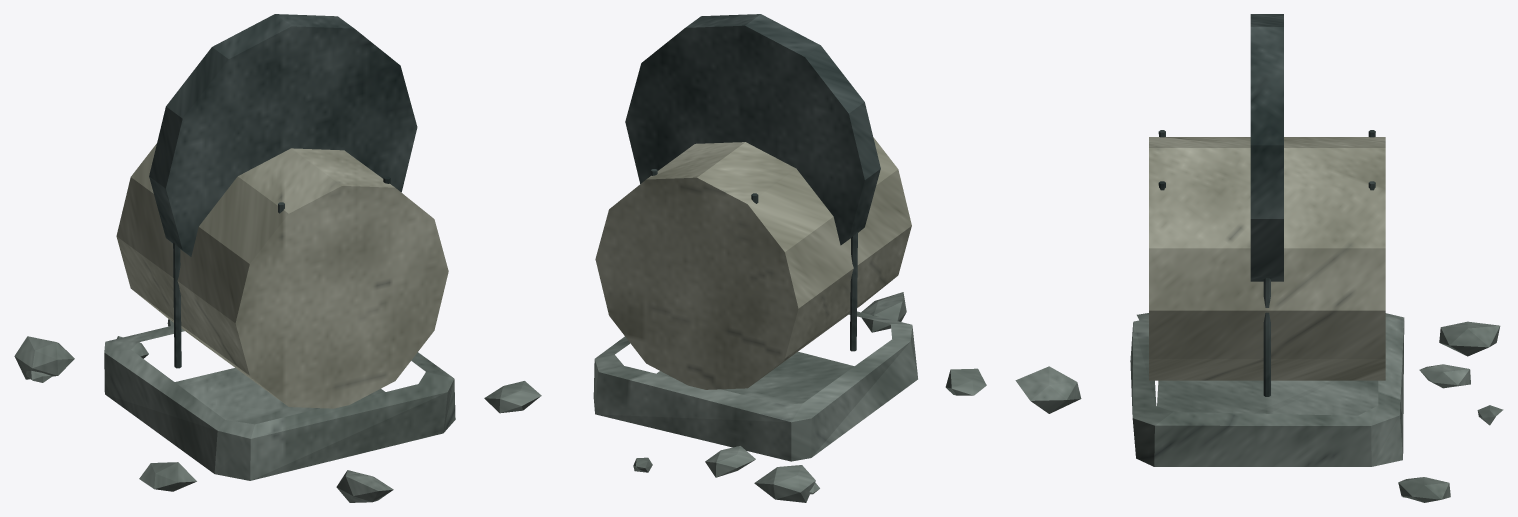
The model's file is 0259_broken_column_09.glb.
The picture shows the model from 3 angles, left to right: view 1: azimuth 30°, elevation 25°; view 2: azimuth 150°, elevation 25°; view 3: azimuth 270°, elevation 25°; orthographic projection. The views are drawn at different scales.
Parts seen in each view (by area): view 1: stone_light, stone_dark, stone; view 2: stone_light, stone_dark, stone; view 3: stone_light, stone, stone_dark.
Boxes of the visible parts, x1=… form: stone_light: x1=116, y1=143, x2=448, y2=408; stone_dark: x1=149, y1=14, x2=417, y2=368; stone: x1=14, y1=319, x2=455, y2=502; stone_light: x1=595, y1=137, x2=911, y2=389; stone_dark: x1=625, y1=14, x2=880, y2=351; stone: x1=484, y1=292, x2=986, y2=502; stone_light: x1=1149, y1=137, x2=1385, y2=380; stone: x1=1015, y1=313, x2=1503, y2=502; stone_dark: x1=1158, y1=14, x2=1375, y2=396.
Size of the model in its own units: 1.97 by 1.95 by 2.19.
Materials: 3 (3 with a texture image).
